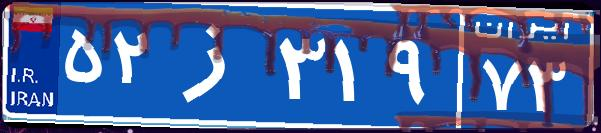1: (330, 28, 385, 110)
2: (110, 28, 158, 105)
3: (273, 28, 330, 110), (525, 38, 570, 115)
5: (57, 26, 110, 107)
7: (475, 38, 525, 113)
9: (385, 28, 445, 110)
ز: (158, 15, 273, 115)
